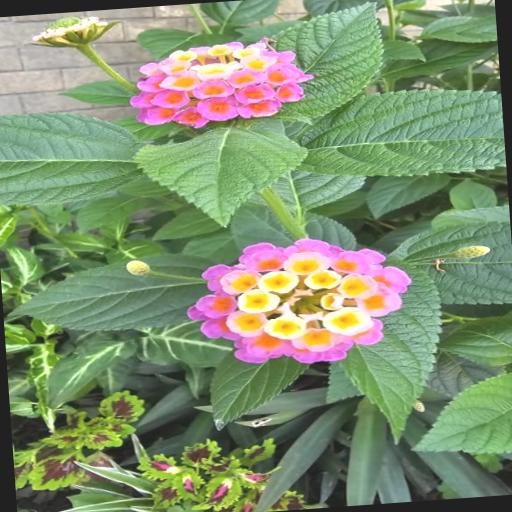Lantana: (183, 234, 420, 368), (118, 38, 318, 133)
